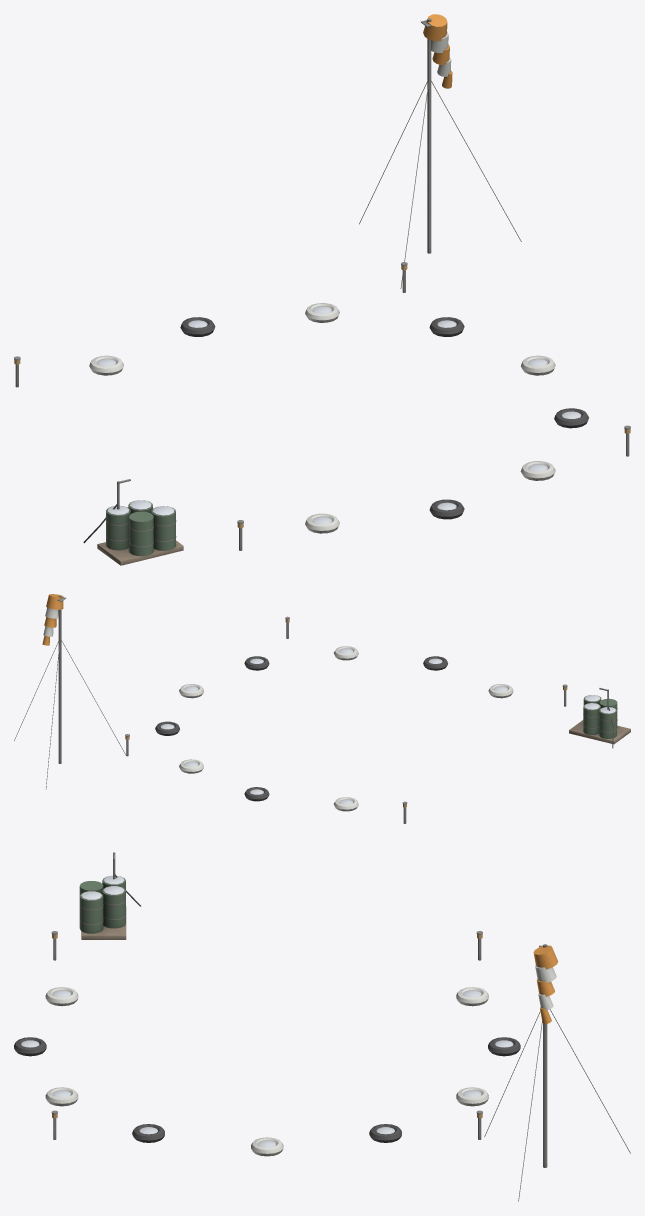
Rendered from helipad_kit.glb.
3 views of the same model, one above another, from view 1: azimuth 30°, elevation 25°; view 2: azimuth 150°, elevation 25°; view 3: azimuth 270°, elevation 25° (orthographic). The views are drawn at different scales.
Visible parts, largest first — view 1: helipad_kit; view 2: helipad_kit; view 3: helipad_kit.
Boxes of the visible parts, <box> form: helipad_kit: <box>14,14,630,565</box>; helipad_kit: <box>14,594,630,823</box>; helipad_kit: <box>14,852,630,1201</box>.
Size of the model in its own units: 17.13 by 6.03 by 15.1.
Materials: 1 (1 with a texture image).
